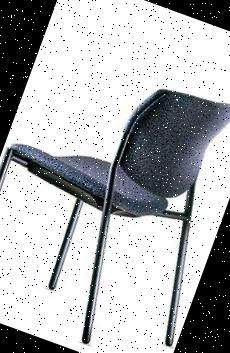Silla: (0, 40, 229, 352)
